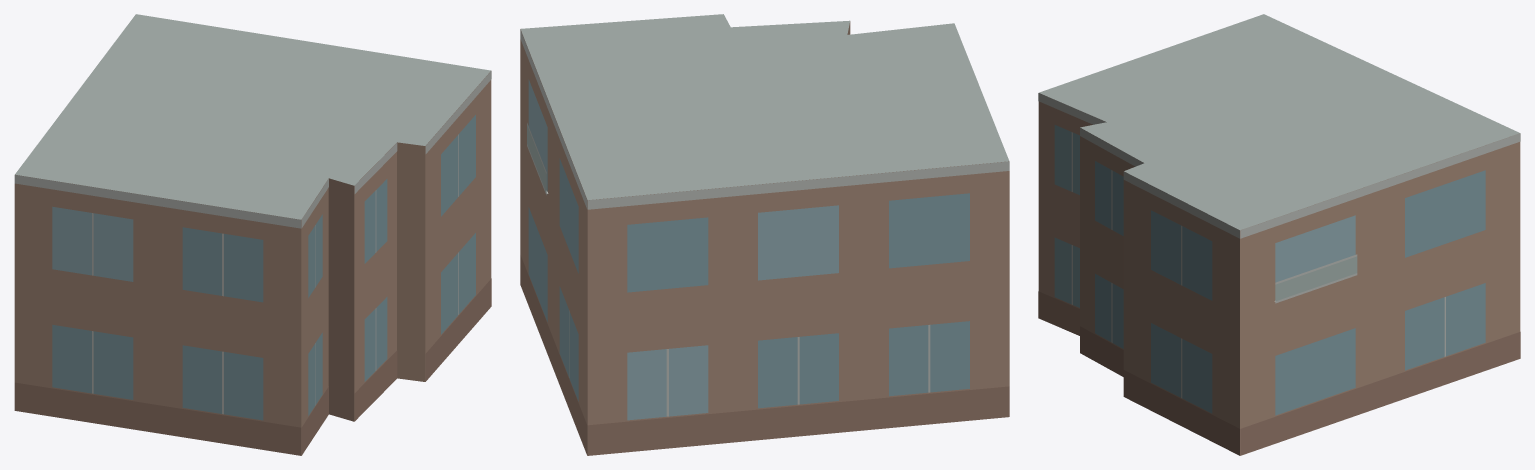
Rendered from survey-upis-32592817.glb.
The picture shows the model from 3 angles, left to right: view 1: azimuth 30°, elevation 25°; view 2: azimuth 150°, elevation 25°; view 3: azimuth 270°, elevation 25°; orthographic projection. The views are drawn at different scales.
Visible parts, largest first — view 1: survey-upis-32592817.tmp; view 2: survey-upis-32592817.tmp; view 3: survey-upis-32592817.tmp.
Boxes of the visible parts, x1,y1,x2,y2 form: survey-upis-32592817.tmp: [14, 14, 491, 455]; survey-upis-32592817.tmp: [520, 14, 1009, 455]; survey-upis-32592817.tmp: [1038, 14, 1520, 455].
Bounding box in the file's own units: 13.38 × 6.5 × 12.6.
